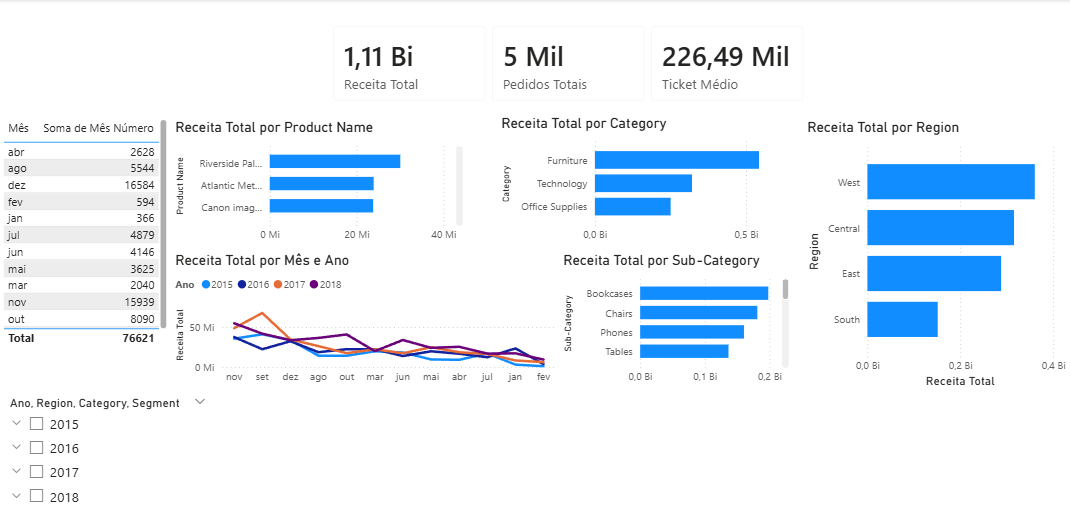

The page's visual inventory and layout, read from the dashboard file:
{"tool":"powerbi","page":{"name":"Página 1","canvas":[1280,720],"ordinal":0},"visuals":[{"type":"tableEx","fields":{"Values":["vendas.Mês","Sum(vendas.Mês Número)"]},"box":[0,138.6,205.6,279.7],"z":0},{"type":"lineChart","fields":{"Category":["vendas.Mês"],"Y":["vendas.Receita Total"],"Series":["vendas.Ano"]},"box":[205.6,302.4,463.7,167.3],"z":1000},{"type":"barChart","fields":{"Category":["vendas.Category"],"Y":["vendas.Receita Total"]},"box":[595.2,138.6,353.8,161.3],"z":2000},{"type":"barChart","fields":{"Category":["vendas.Sub-Category"],"Y":["vendas.Receita Total"]},"box":[669.3,302.4,279.7,167.3],"z":3000},{"type":"barChart","fields":{"Category":["vendas.Product Name"],"Y":["vendas.Receita Total"]},"box":[205.6,143.4,353.8,156.6],"z":4000},{"type":"barChart","fields":{"Category":["vendas.Region"],"Y":["vendas.Receita Total"]},"box":[960.9,143.4,319.1,326.3],"z":4001},{"type":"cardVisual","fields":{"Data":["vendas.Receita Total","vendas.Pedidos Totais","vendas.Ticket Médio"]},"box":[382.4,15.5,598.8,123.1],"z":4002},{"type":"slicer","fields":{"Values":["vendas.Ano","vendas.Region","vendas.Category","vendas.Segment"]},"box":[0,469.7,259.3,249.8],"z":4003}]}

Visuals, with their boxes on the page's 1280x720 design canvas (x1, y1, x2, y2). These are canvas units, not pixel positions in the 1070x513 screenshot, which may show the page scaled, cropped or inside an application window:
tableEx - vendas.Mês x Sum(vendas.Mês Número): (0, 139, 206, 418)
lineChart - vendas.Mês x vendas.Receita Total: (206, 302, 669, 470)
barChart - vendas.Category x vendas.Receita Total: (595, 139, 949, 300)
barChart - vendas.Sub-Category x vendas.Receita Total: (669, 302, 949, 470)
barChart - vendas.Product Name x vendas.Receita Total: (206, 143, 559, 300)
barChart - vendas.Region x vendas.Receita Total: (961, 143, 1280, 470)
cardVisual - vendas.Receita Total x vendas.Pedidos Totais: (382, 16, 981, 139)
slicer - vendas.Ano x vendas.Region: (0, 470, 259, 720)
